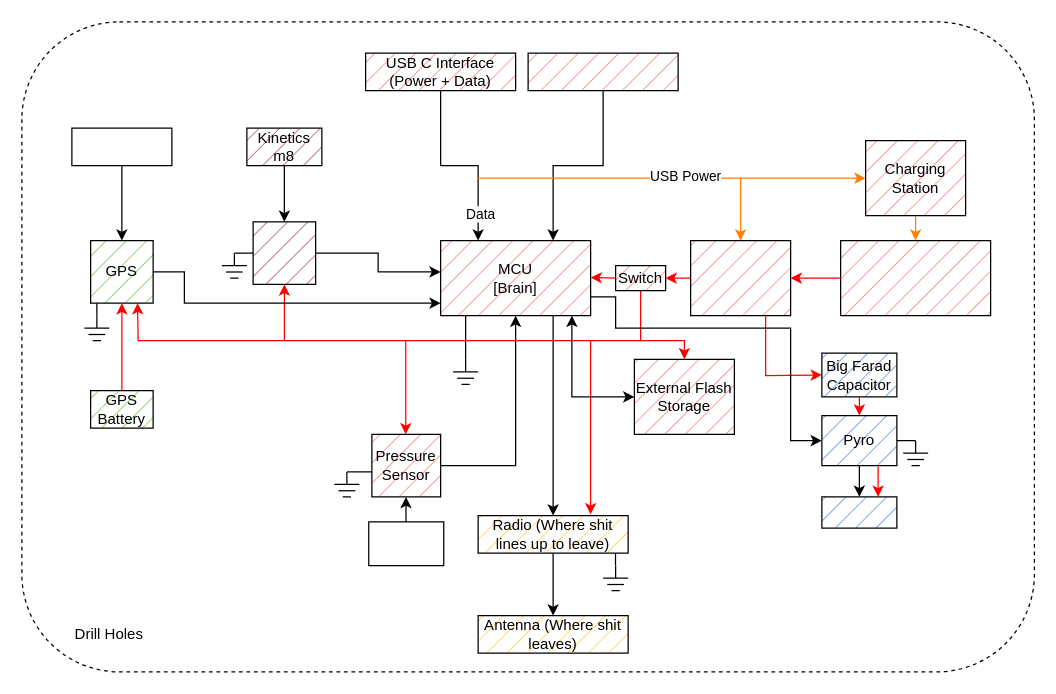
This 1056x694 diagram has some shape labels left out. Each missing label, with the centre of its shape:
"Debugging Interface (ST LInk)" belongs at (x=602, y=71).
"E-Match" belongs at (x=859, y=512).
"Haw Air Pal" belongs at (x=406, y=543).
"IMU" belongs at (x=284, y=252).
"Power Source - 18350 cell [3.7V 1.8A]" belongs at (x=915, y=277).
"Regulation Station" belongs at (x=740, y=277).
"Satellite Data" belongs at (x=121, y=146).
